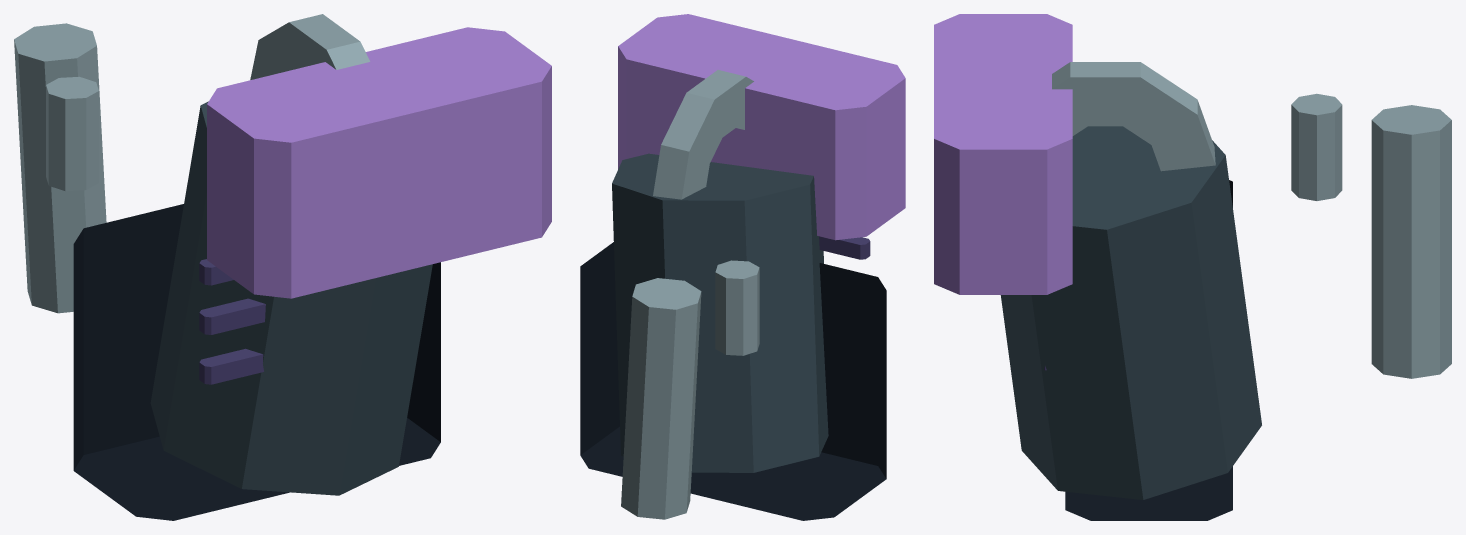
The model's file is enemy_tank_shin_r.obj.
3 renders of one model, left to right at view 1: azimuth 30°, elevation 25°; view 2: azimuth 150°, elevation 25°; view 3: azimuth 270°, elevation 25°, orthographic. The views are drawn at different scales.
Bounding box in the file's own units: 0.51 × 0.6084 × 0.71.
